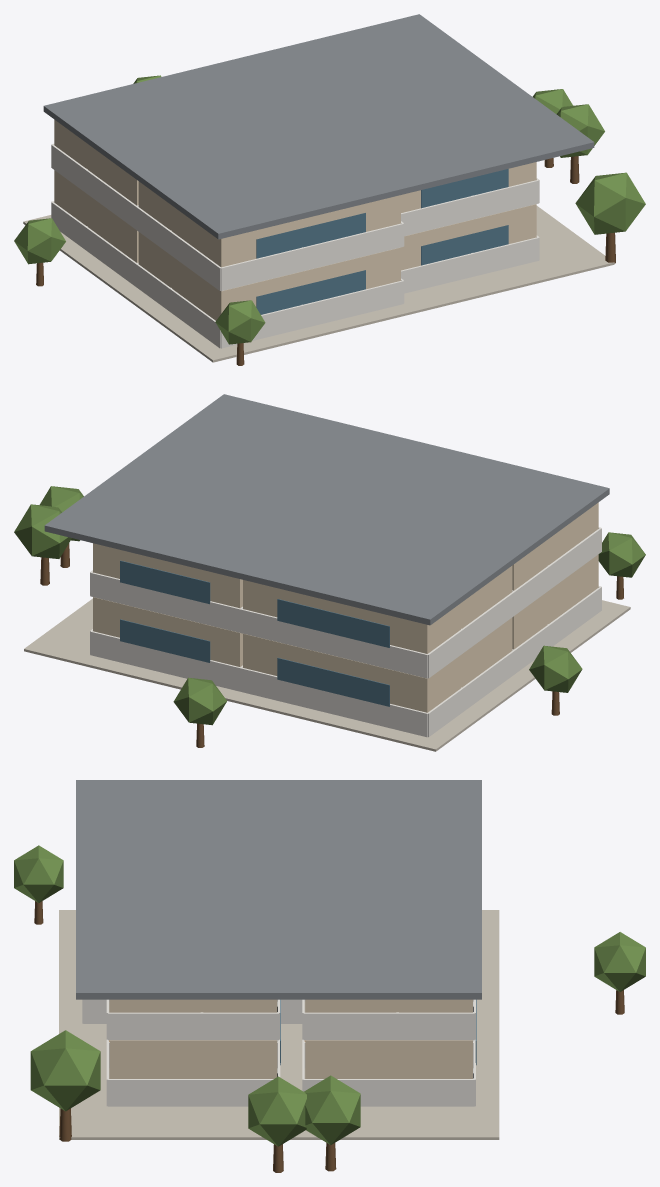
The model's file is smartrent-sample-site.glb.
3 views of the same model, one above another, from view 1: azimuth 30°, elevation 25°; view 2: azimuth 150°, elevation 25°; view 3: azimuth 270°, elevation 25° (orthographic). The views are drawn at different scales.
Visible parts, largest first — view 1: Roof, Wall (×16), SHELL (×6), Plinth, Tree (×5), Window (×4); view 2: Roof, Wall (×18), SHELL (×6), Plinth, Window (×4), Tree (×5); view 3: Roof, Plinth, Wall (×9), SHELL (×4), Tree (×5).
Boxes of the visible parts, x1,y1,x2,y2 form: Roof: (43,14,594,239); Wall (×16): (51,144,539,348); SHELL (×6): (54,119,536,320); Plinth: (23,206,614,362); Tree (×5): (14,89,645,365); Window (×4): (256,169,508,314); Roof: (44,394,609,625); Wall (×18): (90,528,601,737); SHELL (×6): (93,502,598,712); Plinth: (24,598,630,751); Window (×4): (120,560,389,706); Tree (×5): (14,486,645,747); Roof: (76,780,481,999); Plinth: (59,910,499,1139); Wall (×9): (83,999,474,1106); SHELL (×4): (109,999,472,1078); Tree (×5): (14,845,645,1172).
Bounding box in the file's own units: 30.03 × 6.3 × 25.84.
